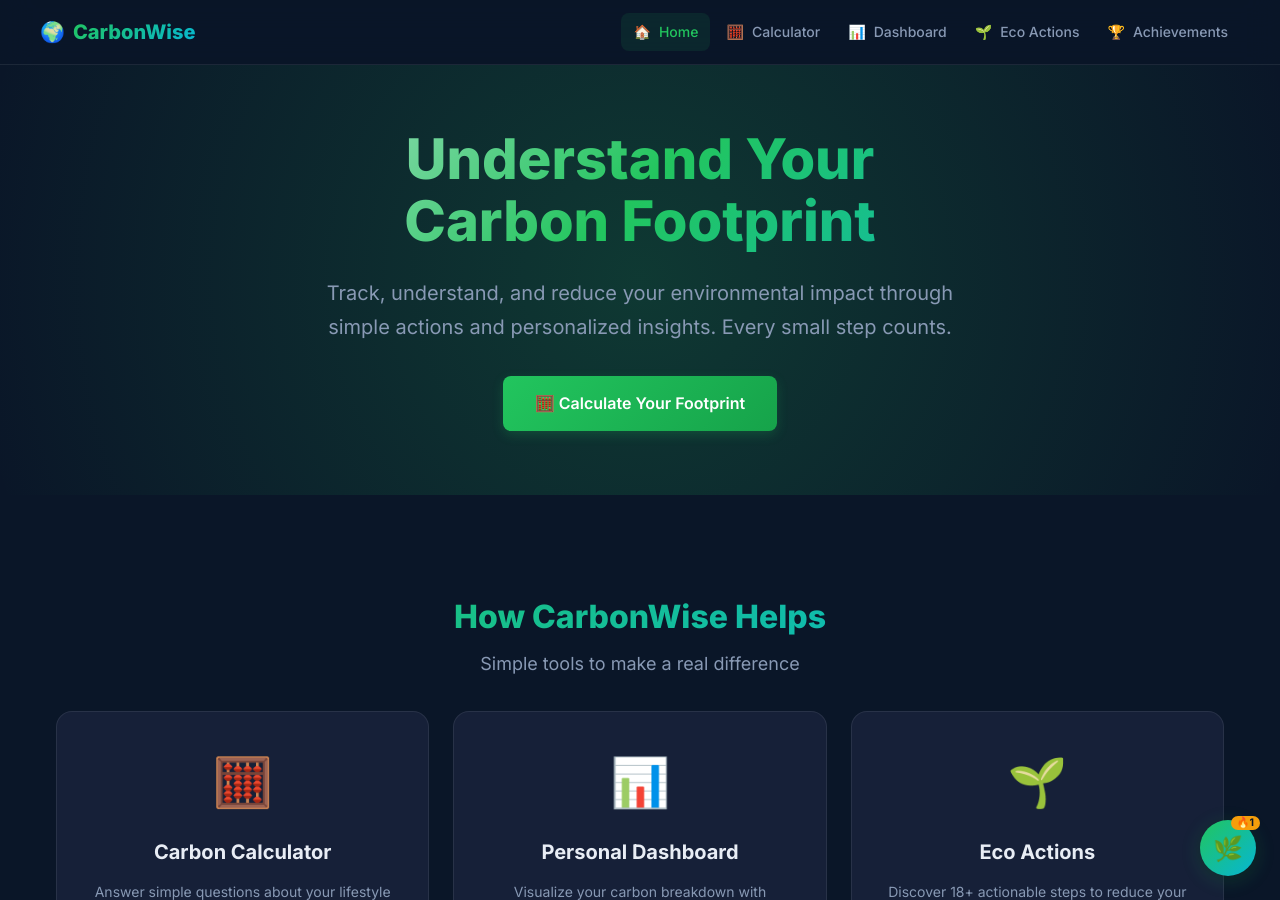
it: EcoAssistant Widget › closes panel on close button
What coordinates should you click on to do the following:
click the button named "open eco assistant"
I would click on:
 (1228, 848)
Its box is [1200,820,1256,876].
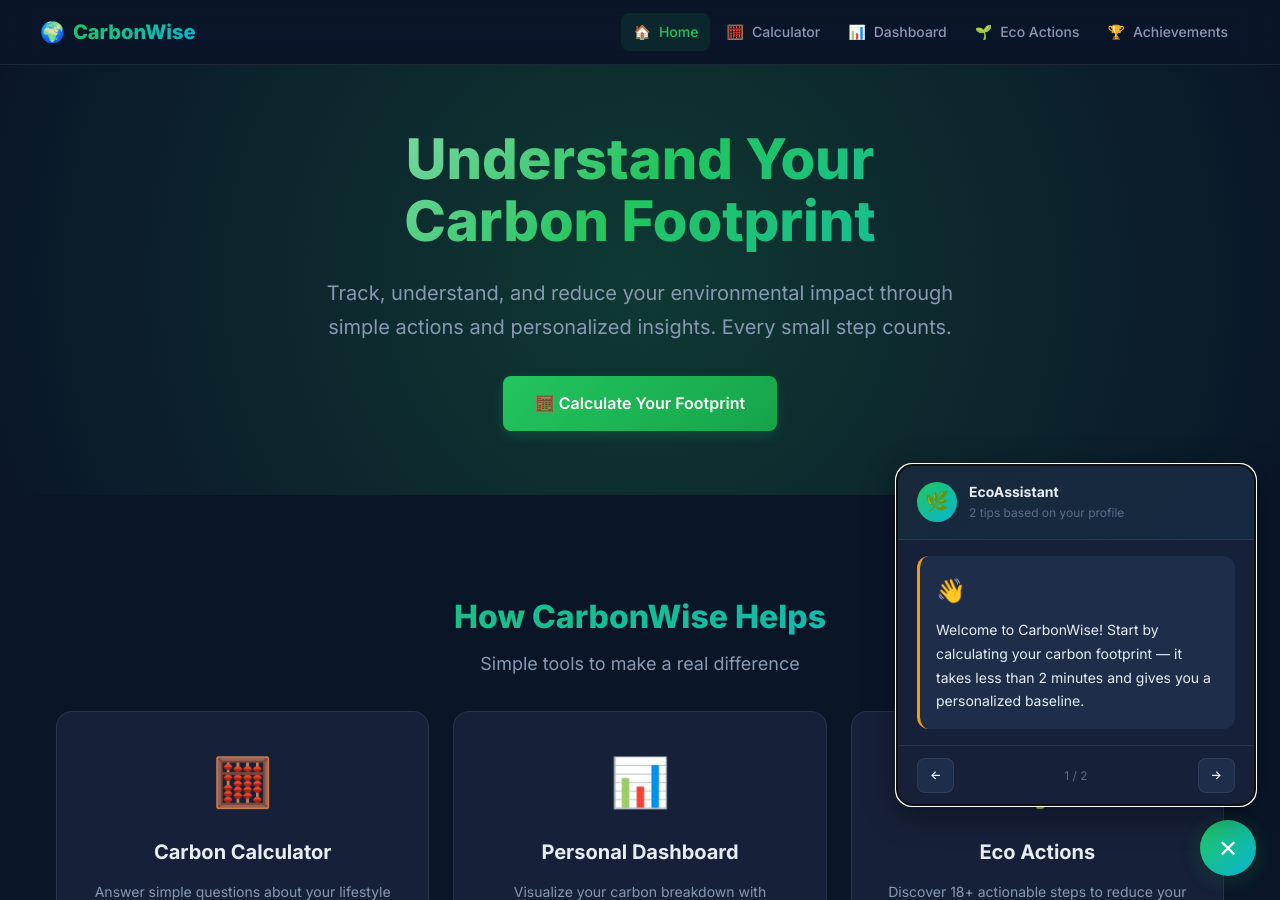
Result: the text "EcoAssistant" is shown at [969,483,1059,500]
What coordinates should you click on to do the following:
click the button named "close eco assistant"
I would click on:
 (1228, 848)
Its box is [1200,820,1256,876].
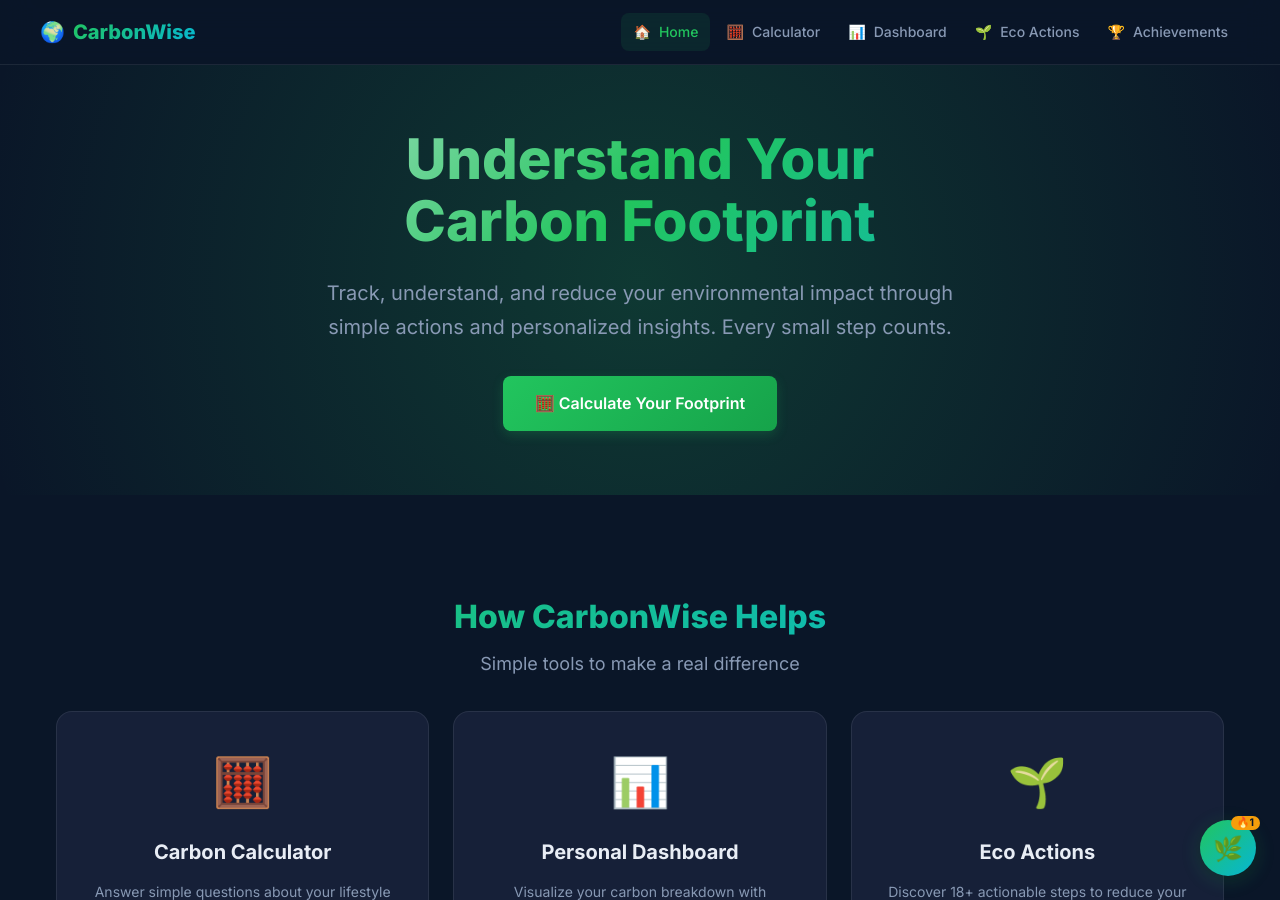
Result: the text "EcoAssistant" is gone
